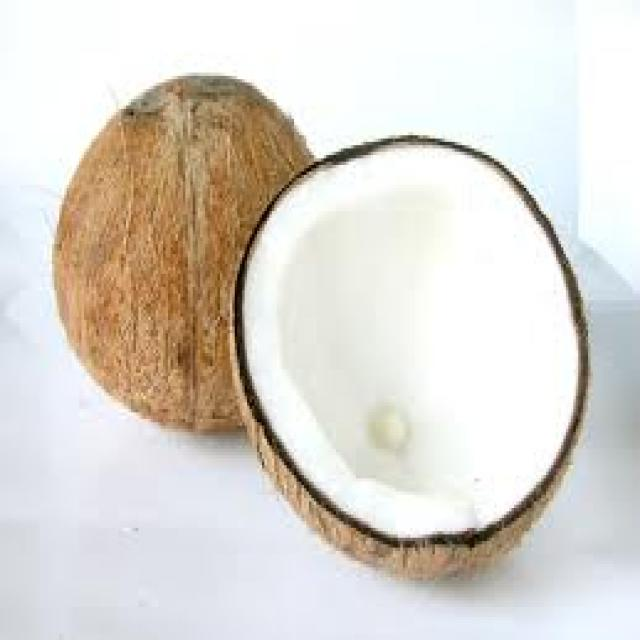coconut: (42, 46, 591, 584)
